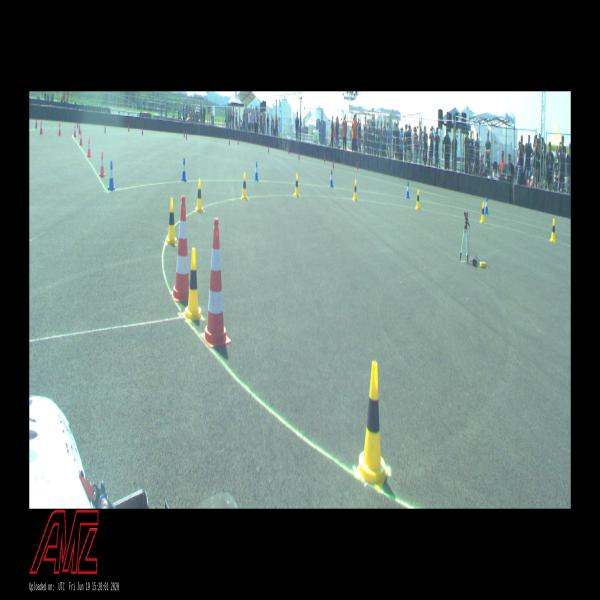blue_cone: (108, 162, 115, 190), (181, 158, 186, 181), (484, 195, 489, 215), (254, 161, 259, 181), (405, 181, 410, 199), (330, 170, 334, 188)
large_orange_cone: (200, 216, 231, 347), (171, 195, 194, 304)
orange_cone: (99, 150, 105, 176), (87, 137, 91, 157), (79, 130, 83, 145), (73, 124, 77, 138), (40, 120, 43, 134), (58, 122, 61, 136)
unknown_cone: (35, 118, 38, 129), (332, 158, 334, 169), (356, 160, 358, 171), (79, 123, 81, 134), (104, 123, 106, 133), (142, 126, 144, 136), (228, 136, 230, 146), (298, 150, 300, 160), (268, 144, 270, 153), (128, 124, 130, 132), (183, 129, 185, 137), (237, 137, 239, 145), (77, 120, 79, 128), (288, 146, 289, 155), (324, 153, 325, 162), (186, 132, 187, 140)
yellow_cone: (358, 361, 389, 489), (184, 247, 204, 321), (167, 197, 178, 245), (196, 178, 204, 213), (241, 172, 248, 200), (550, 218, 557, 242), (294, 173, 300, 197), (352, 180, 358, 202), (415, 189, 420, 211), (480, 202, 485, 224)
